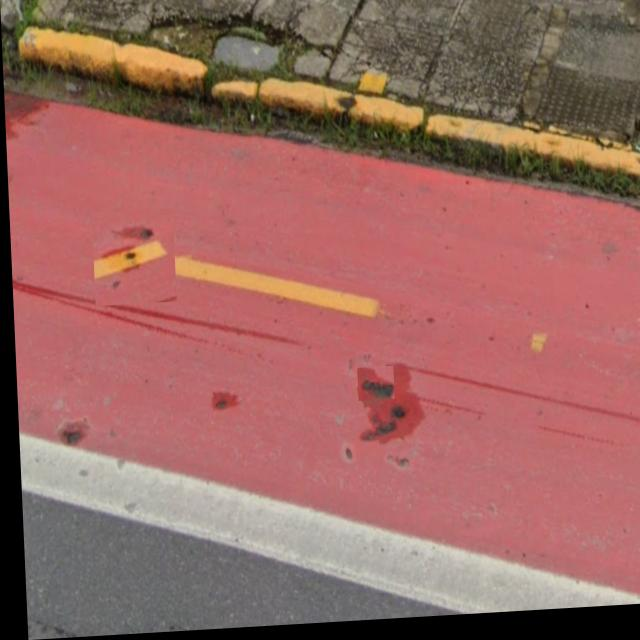Buraco: (90, 210, 174, 307), (338, 399, 415, 450), (38, 399, 104, 456), (354, 370, 391, 405), (199, 383, 231, 420)
